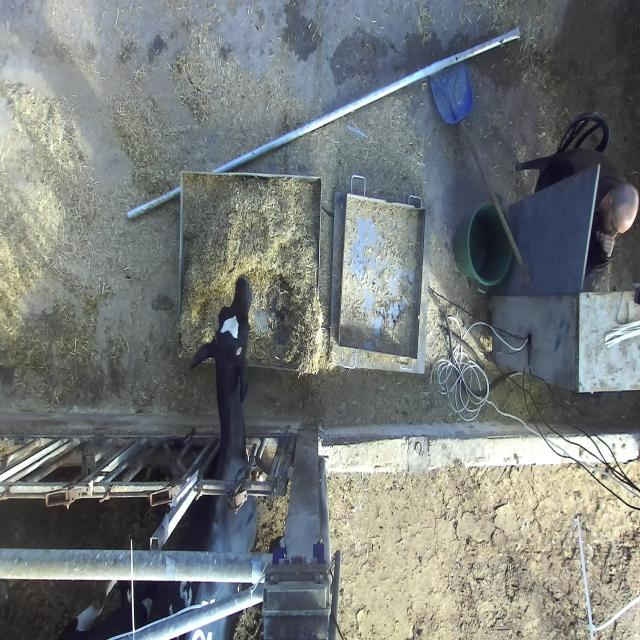cow: (187, 275, 254, 410)
